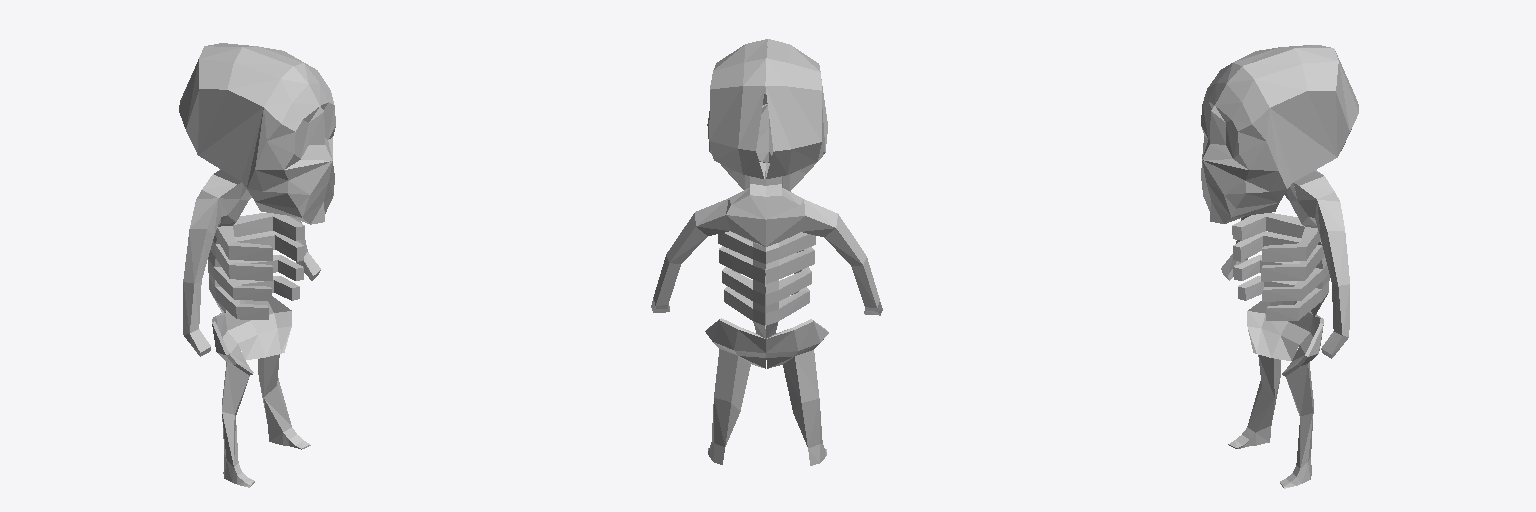
The model's file is nskeleton.obj.
3 renders of one model, left to right at view 1: azimuth 30°, elevation 25°; view 2: azimuth 150°, elevation 25°; view 3: azimuth 270°, elevation 25°, orthographic.
Parts seen in each view (by area): view 1: Circle_Circle.001; view 2: Circle_Circle.001; view 3: Circle_Circle.001.
Boxes of the visible parts, x1,y1,x2,y2 form: Circle_Circle.001: [179, 43, 335, 487]; Circle_Circle.001: [651, 39, 882, 465]; Circle_Circle.001: [1201, 45, 1358, 488].
Bounding box in the file's own units: 2.69 × 5.77 × 2.03.